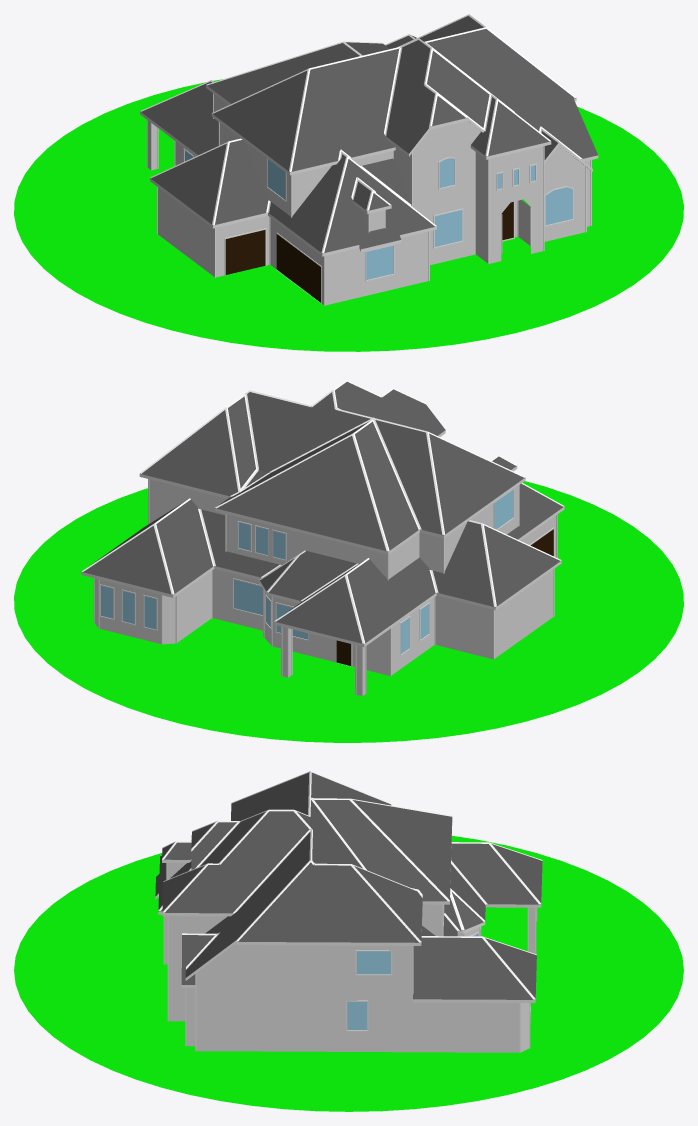
3 renders of one model, top to bottom at view 1: azimuth 30°, elevation 25°; view 2: azimuth 150°, elevation 25°; view 3: azimuth 270°, elevation 25°, orthographic.
Parts seen in each view (by area): view 1: ground, F6, F35, F76, F5, F54, F40, F85, F10, F28, F26, F25 (+21 smaller); view 2: ground, F20, F4, F5, F28, F24, F19, F32, F69, F27, F26, F33 (+22 smaller); view 3: ground, F45, F1, F3, F34, F20, F21, F35, F30, F4, F41, F6 (+13 smaller).
Boxes of the visible parts, box(x1,y1,x2,y2) form: ground: box(14, 79, 683, 351); F6: box(290, 47, 400, 172); F35: box(427, 29, 597, 159); F76: box(413, 121, 480, 264); F5: box(212, 71, 306, 171); F54: box(325, 231, 428, 305); F40: box(322, 159, 436, 253); F85: box(489, 146, 543, 263); F10: box(386, 40, 434, 153); F28: box(140, 81, 218, 154); F26: box(150, 144, 226, 224); F25: box(213, 140, 269, 225); ground: box(14, 481, 683, 742); F20: box(215, 436, 387, 551); F4: box(247, 392, 443, 535); F5: box(429, 433, 524, 534); F28: box(347, 557, 435, 643); F24: box(140, 410, 239, 496); F19: box(355, 421, 418, 550); F32: box(156, 499, 212, 594); F69: box(226, 514, 387, 578); F27: box(433, 521, 495, 607); F26: box(484, 525, 560, 606); F33: box(81, 526, 172, 594); ground: box(14, 835, 683, 1111); F45: box(196, 944, 519, 1052); F1: box(236, 862, 420, 942); F3: box(163, 811, 311, 913); F34: box(413, 937, 535, 999); F20: box(353, 800, 452, 899); F21: box(313, 799, 447, 901); F35: box(185, 832, 310, 977); F30: box(451, 843, 540, 904); F4: box(297, 772, 391, 868); F41: box(168, 916, 227, 1021); F6: box(231, 772, 309, 820).
Size of the model in its own units: 117 by 35.27 by 117.
